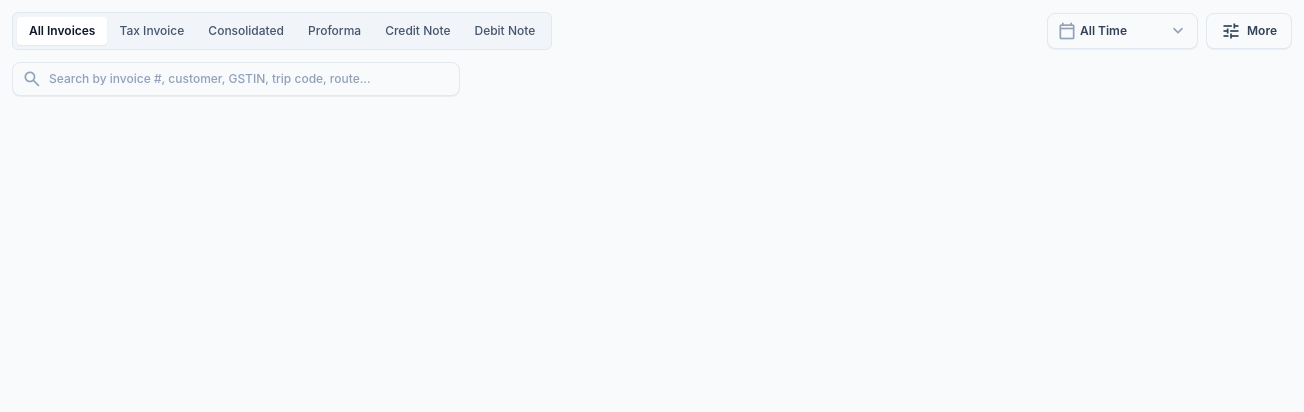
Test: InvoiceToolbar › closes the More Filters dropdown when More Filters is clicked again
Click the button with aria-label "More Filters": (1249, 31) [1206, 13, 1292, 49]
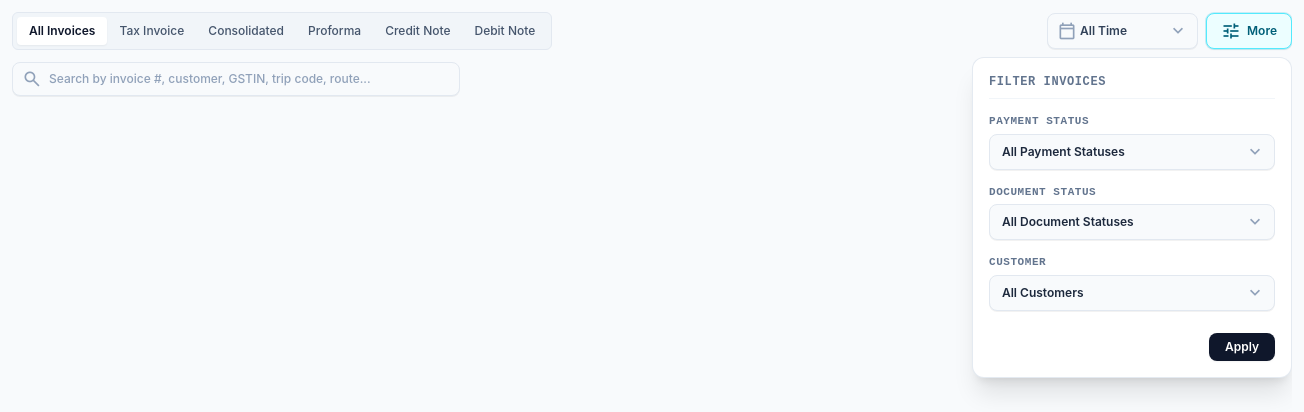
expect the text "Filter Invoices" is shown: met, box [989, 74, 1106, 90]
Click the button with aria-label "More Filters": (1249, 31) [1206, 13, 1292, 49]
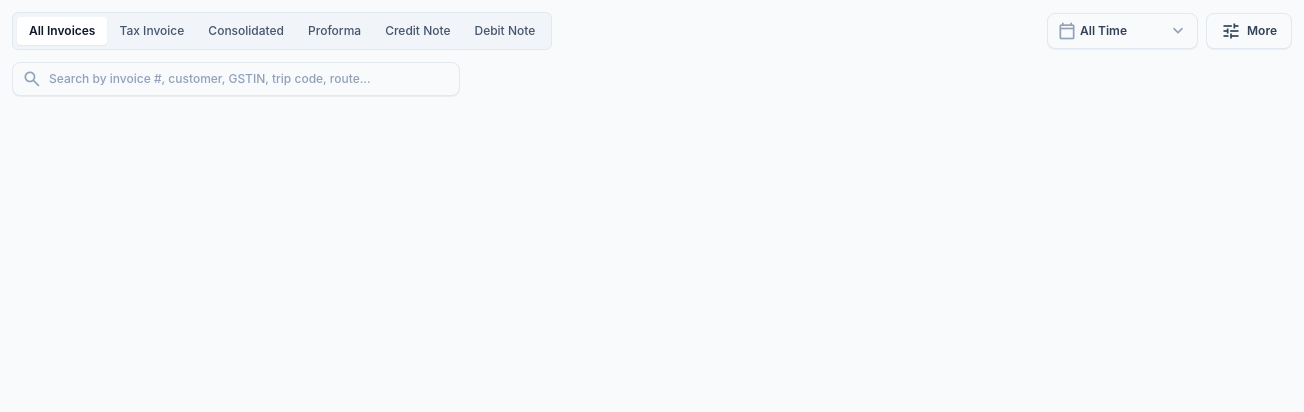
expect the text "Filter Invoices" is gone: met
expect the button with aria-label "More Filters" is collapsed: met, box [1206, 13, 1292, 49]
